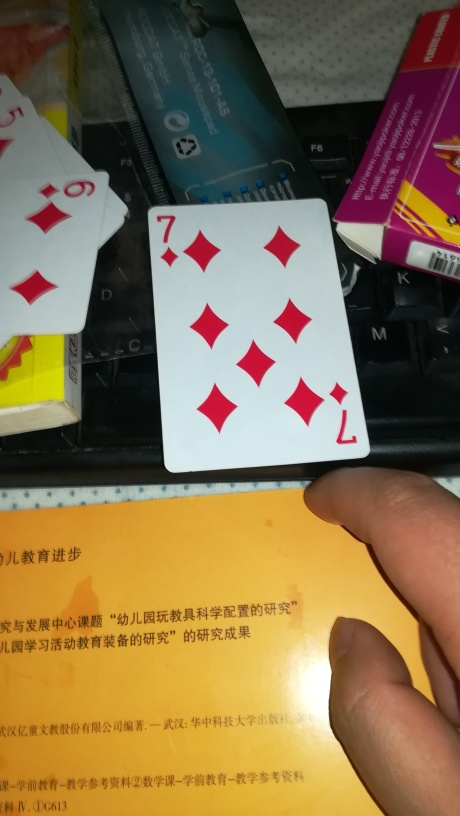fk 7: (145, 196, 376, 475)
